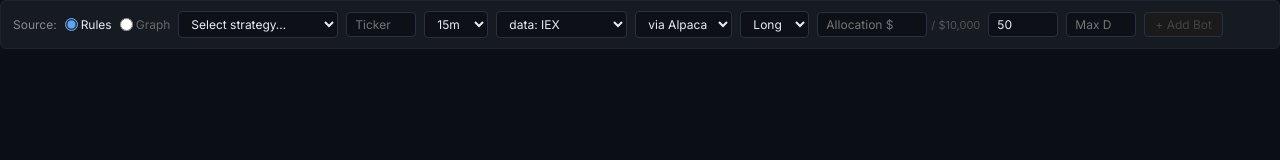
Test: AddBotBar group selector (S36) › a one-group graph hides the selector and fills the symbol from the group
The width and height of the screenshot is (1280, 160).
Click the radio button labelled "Graph" at coordinates (126, 24), box [120,18,133,31]
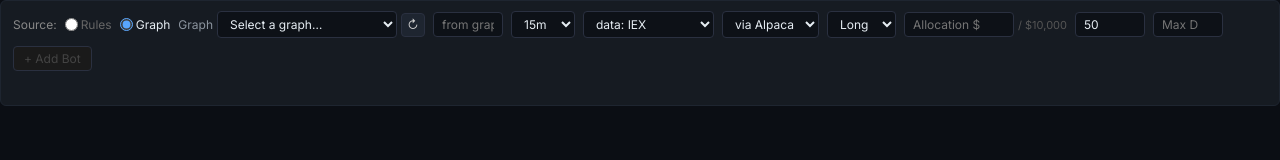
Check: the dropdown with test id "addbot-graph-select" is enabled
Select "solo_tsla · 4 nodes" in the dropdown with test id "addbot-graph-select" at coordinates (307, 24), box [217,11,397,38]
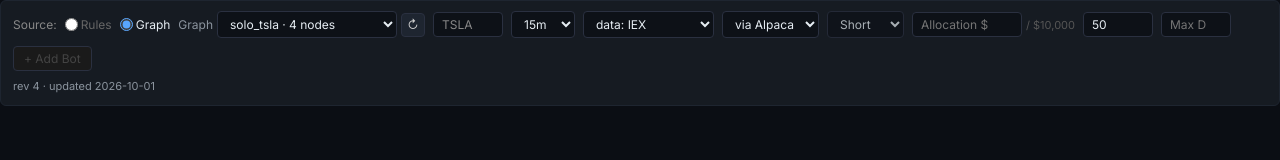
Check: the field with test id "addbot-symbol" holds "TSLA", box [433,12,503,37]
